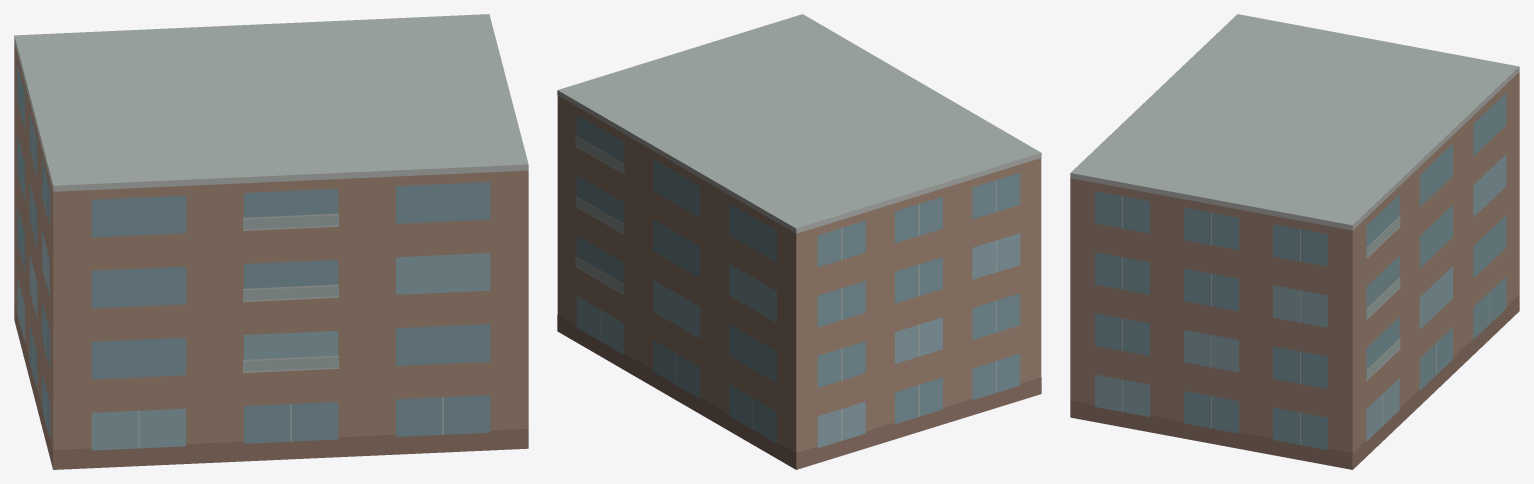
Rendered from survey-upis-32959176.glb.
The picture shows the model from 3 angles, left to right: view 1: azimuth 30°, elevation 25°; view 2: azimuth 150°, elevation 25°; view 3: azimuth 270°, elevation 25°; orthographic projection. The views are drawn at different scales.
Visible parts, largest first — view 1: survey-upis-32959176.tmp; view 2: survey-upis-32959176.tmp; view 3: survey-upis-32959176.tmp.
Part boxes in pixels (bbox=[...]): survey-upis-32959176.tmp: bbox=[14, 14, 528, 469]; survey-upis-32959176.tmp: bbox=[557, 14, 1041, 469]; survey-upis-32959176.tmp: bbox=[1070, 14, 1519, 469].
Bounding box in the file's own units: 21.13 × 11.4 × 18.99.
